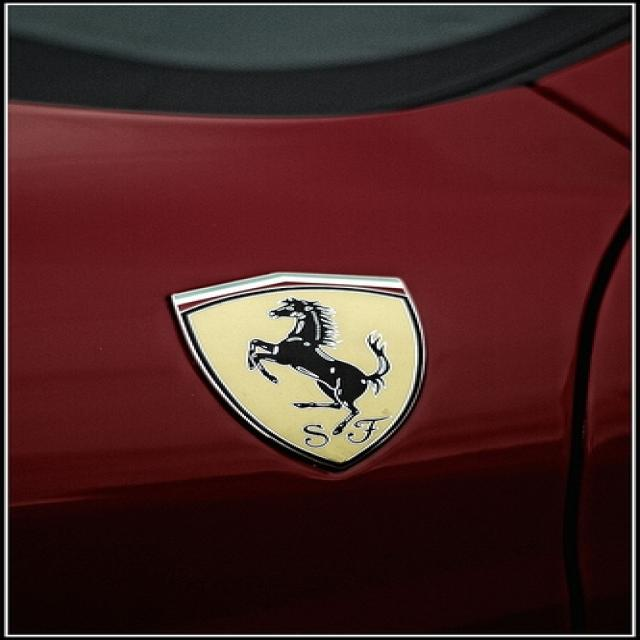ferrari: (172, 274, 430, 468)
